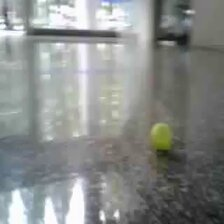tennis: (150, 122, 173, 149)
